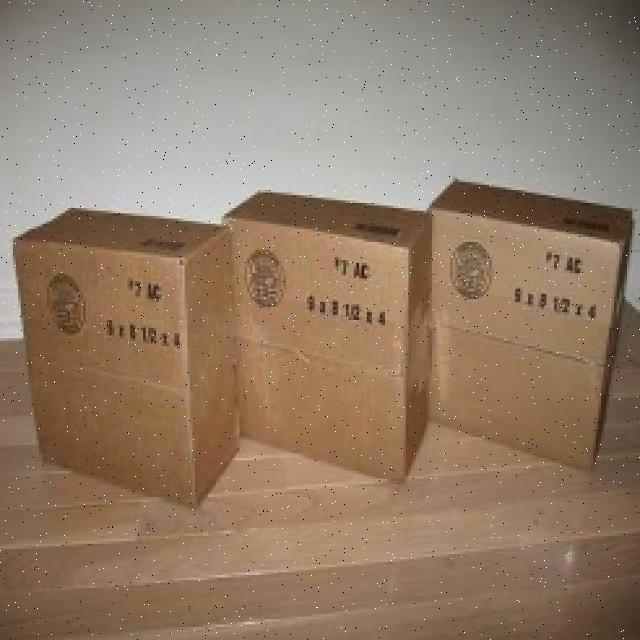box: (18, 198, 247, 522), (232, 183, 436, 479), (433, 168, 629, 468)
